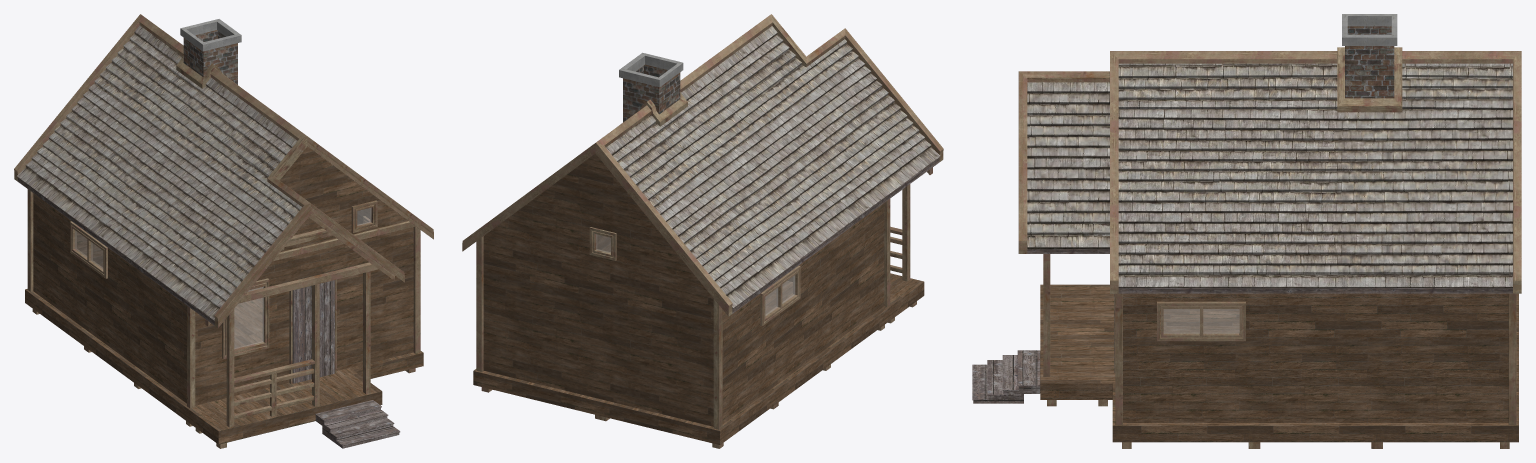
Rendered from woods_house.glb.
3 renders of one model, left to right at view 1: azimuth 30°, elevation 25°; view 2: azimuth 150°, elevation 25°; view 3: azimuth 270°, elevation 25°, orthographic. The views are drawn at different scales.
Visible parts, largest first — view 1: building_001.011, building_001.009, building_001.008, building_001.010, Cube.004, Cube.012, building_001.012, building_001.013, Cube.028, building_001.007, Cube.007, Cube.011 (+3 smaller); view 2: building_001.011, building_001.009, building_001.008, Cube.004, building_001.012, building_001.010, building_001.007, Cube.028, Cube.007, Cube.006; view 3: building_001.009, building_001.011, building_001.008, building_001.012, building_001.013, building_001.007, Cube.004, Cube.028, Cube.020, Cube.013, building_001.010.
Part boxes in pixels (<box>): building_001.011: <box>25,146,423,444</box>; building_001.009: <box>17,25,302,320</box>; building_001.008: <box>14,14,433,327</box>; building_001.010: <box>205,214,394,427</box>; Cube.004: <box>27,189,420,408</box>; Cube.012: <box>292,280,334,383</box>; building_001.012: <box>180,19,241,84</box>; building_001.013: <box>315,400,400,448</box>; Cube.028: <box>75,208,371,348</box>; building_001.007: <box>18,177,214,325</box>; Cube.007: <box>71,226,104,274</box>; Cube.011: <box>225,282,266,355</box>; building_001.011: <box>473,153,924,444</box>; building_001.009: <box>606,26,940,308</box>; building_001.008: <box>462,14,943,316</box>; Cube.004: <box>476,199,890,429</box>; building_001.012: <box>619,52,683,122</box>; building_001.010: <box>890,167,932,281</box>; building_001.007: <box>732,157,939,313</box>; Cube.028: <box>596,234,794,315</box>; Cube.007: <box>764,270,798,321</box>; Cube.006: <box>760,265,800,326</box>; building_001.009: <box>1027,63,1512,287</box>; building_001.011: <box>1040,284,1518,442</box>; building_001.008: <box>1018,47,1521,293</box>; building_001.012: <box>1342,14,1397,98</box>; building_001.013: <box>972,350,1040,403</box>; building_001.007: <box>1027,249,1512,293</box>; Cube.004: <box>1115,293,1516,424</box>; Cube.028: <box>1164,309,1239,333</box>; Cube.020: <box>1157,301,1245,341</box>; Cube.013: <box>1161,306,1242,337</box>; building_001.010: <box>1043,254,1050,376</box>.
Size of the model in its own units: 8.4 by 9.2 by 12.69.
Materials: 10 (9 with a texture image).
